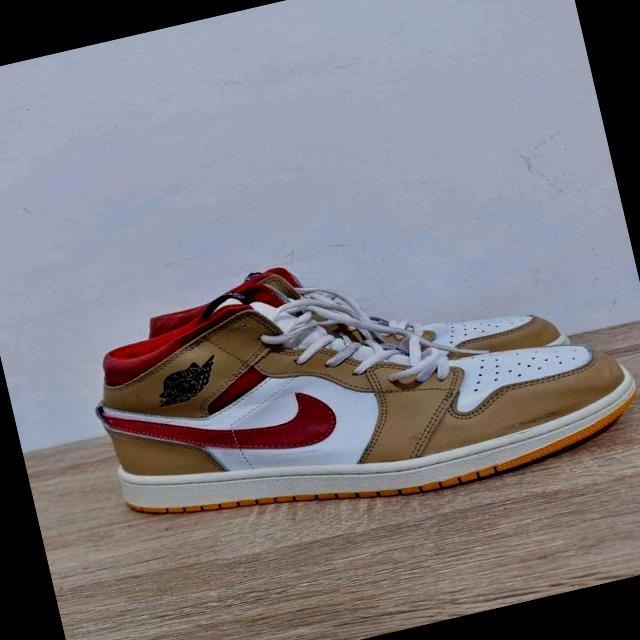nike_fake_jordan: (82, 214, 640, 564), (139, 205, 574, 434)
